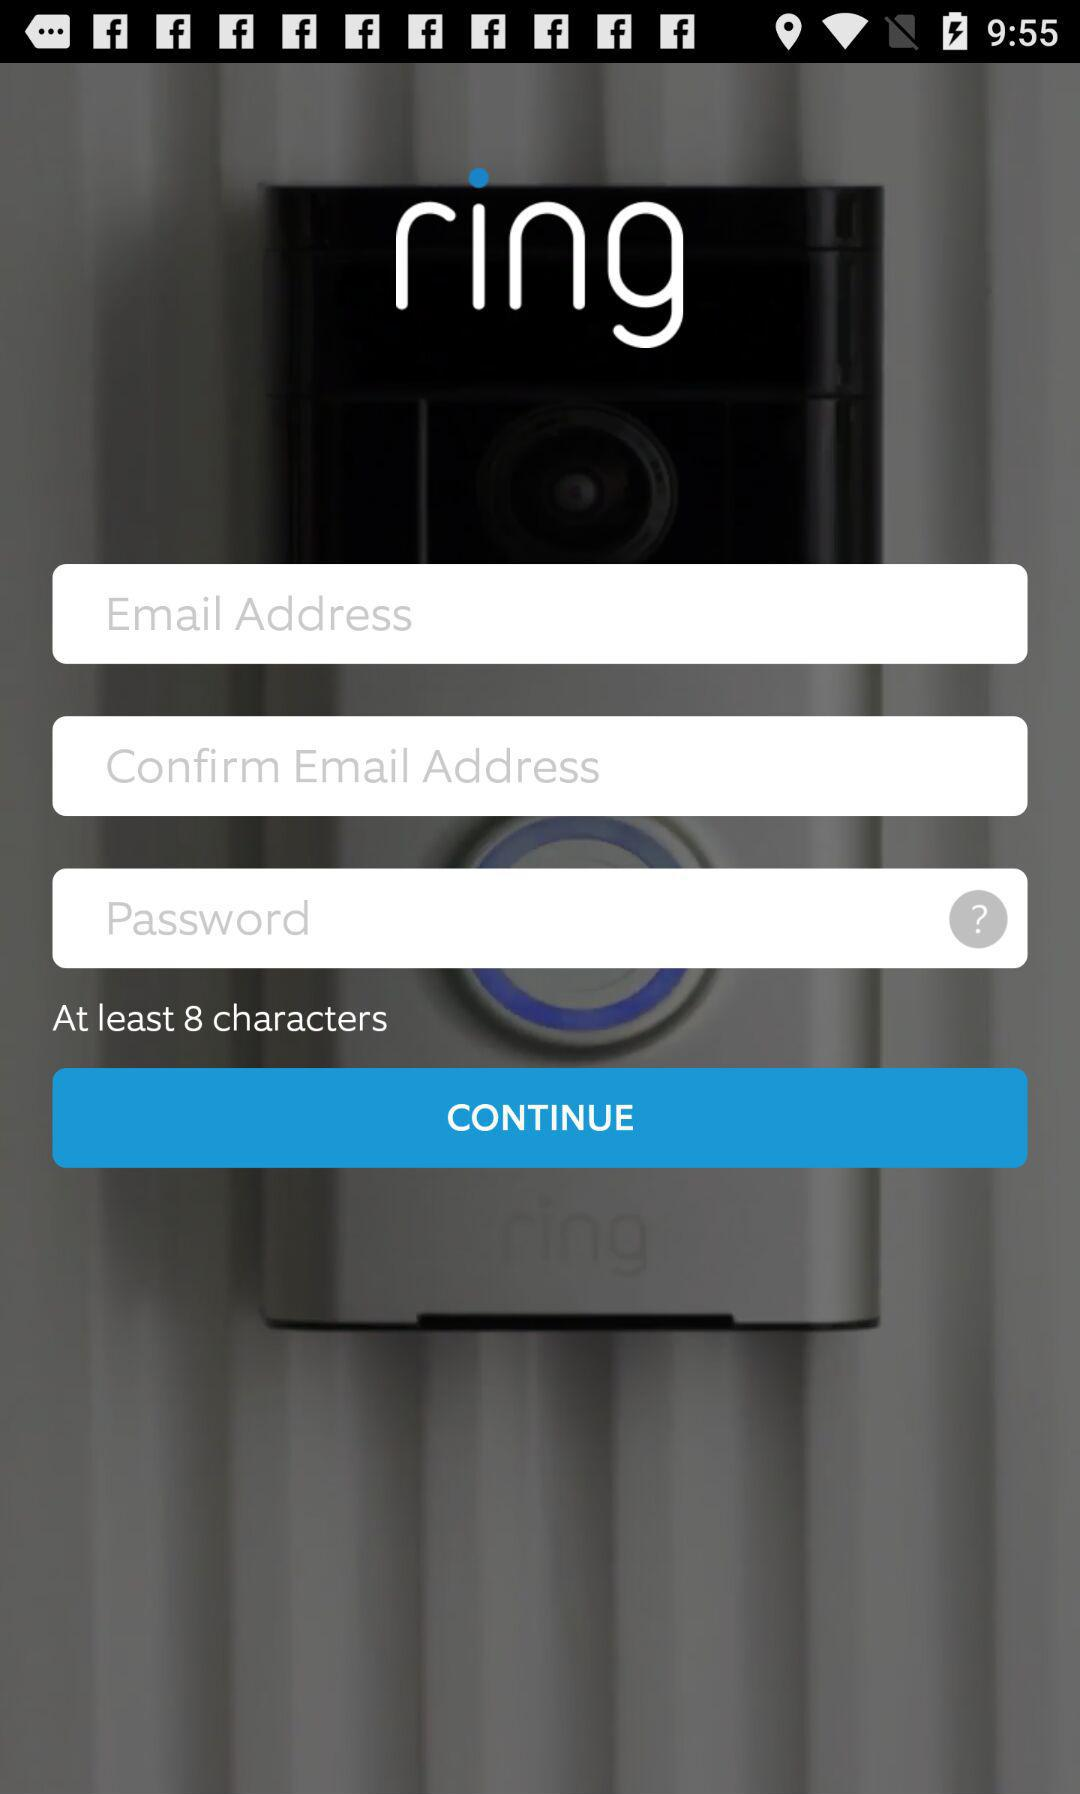BackgroundImage: (1, 63, 1080, 1793)
EditText: (53, 868, 1027, 970), (53, 564, 1029, 665), (53, 716, 1029, 818)
Icon: (949, 891, 1010, 950)
Image: (395, 167, 685, 350)
Text: (108, 747, 601, 786), (109, 595, 413, 632), (53, 1003, 389, 1033), (109, 900, 309, 937)
TextButton: (53, 1067, 1027, 1169)
UpperTaskBar: (1, 1, 1080, 64)
